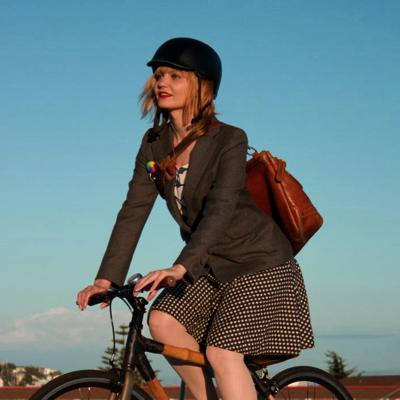With Helmet: (143, 30, 226, 122)
